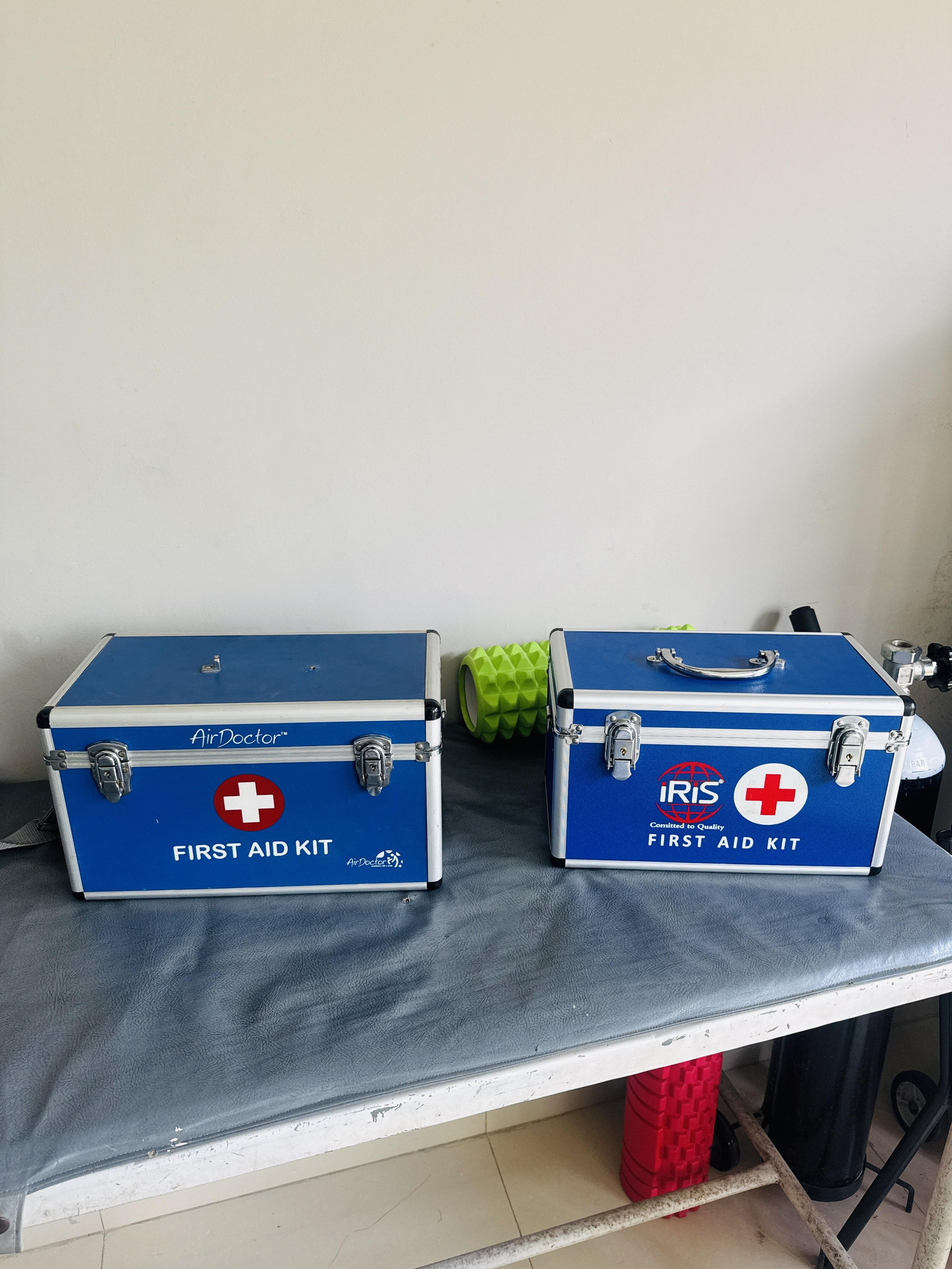FirstAidBox: (20, 613, 467, 914), (526, 594, 929, 901)
